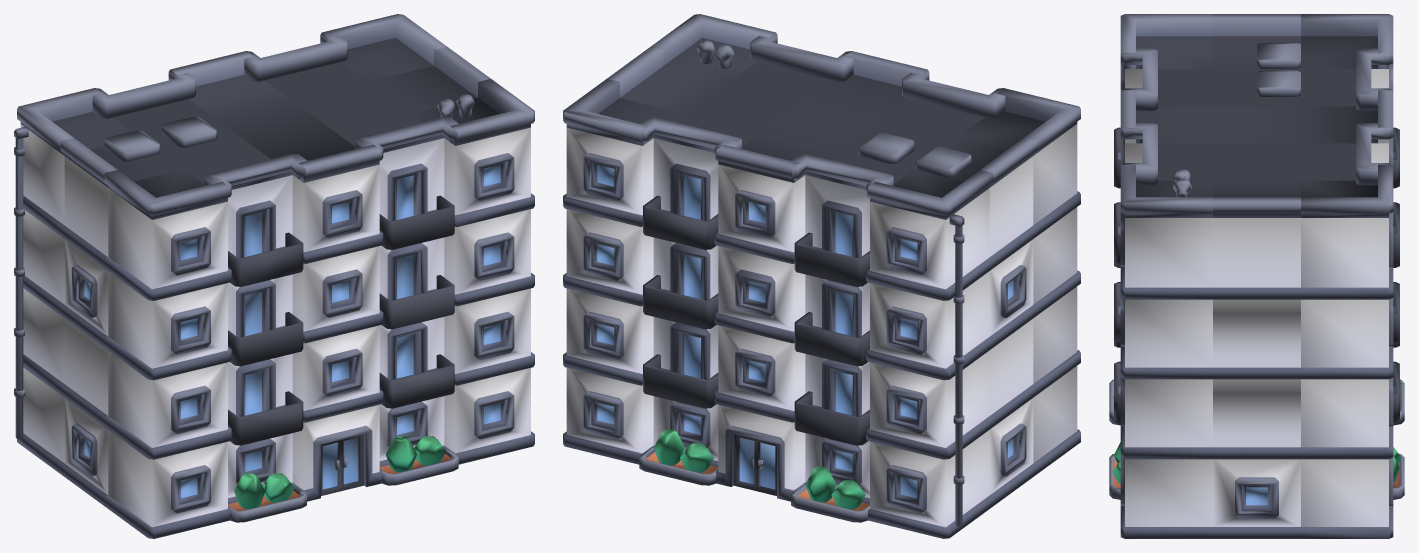
File: building-j_lev1.glb
The picture shows the model from 3 angles, left to right: view 1: azimuth 30°, elevation 25°; view 2: azimuth 150°, elevation 25°; view 3: azimuth 270°, elevation 25°; orthographic projection.
Visible parts, largest first — view 1: building-j_lev1; view 2: building-j_lev1; view 3: building-j_lev1.
Boxes of the visible parts, x1,y1,x2,y2 form: building-j_lev1: (14, 14, 534, 538); building-j_lev1: (563, 14, 1080, 538); building-j_lev1: (1109, 14, 1404, 538).
Size of the model in its own units: 2.08 by 1.69 by 1.34.
Materials: 1 (1 with a texture image).
